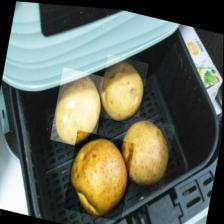Potato: (64, 128, 136, 221), (51, 66, 107, 149), (116, 111, 176, 186), (97, 52, 149, 124)
